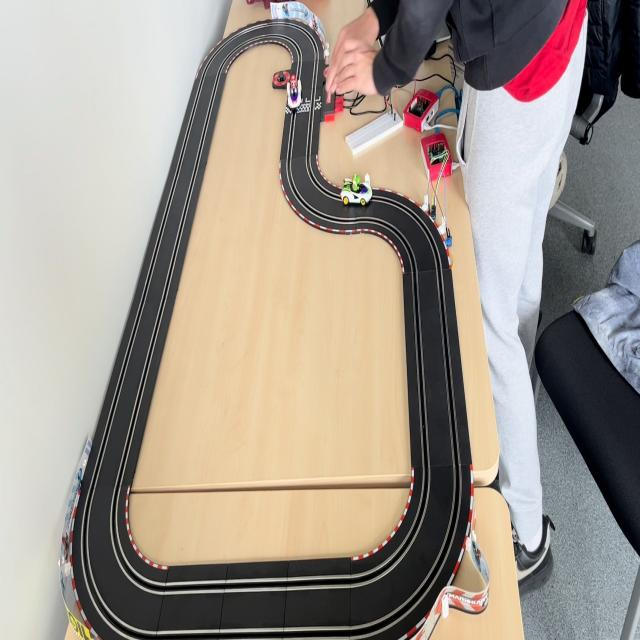mario: (285, 72, 304, 111)
yoshi: (340, 168, 373, 206)
